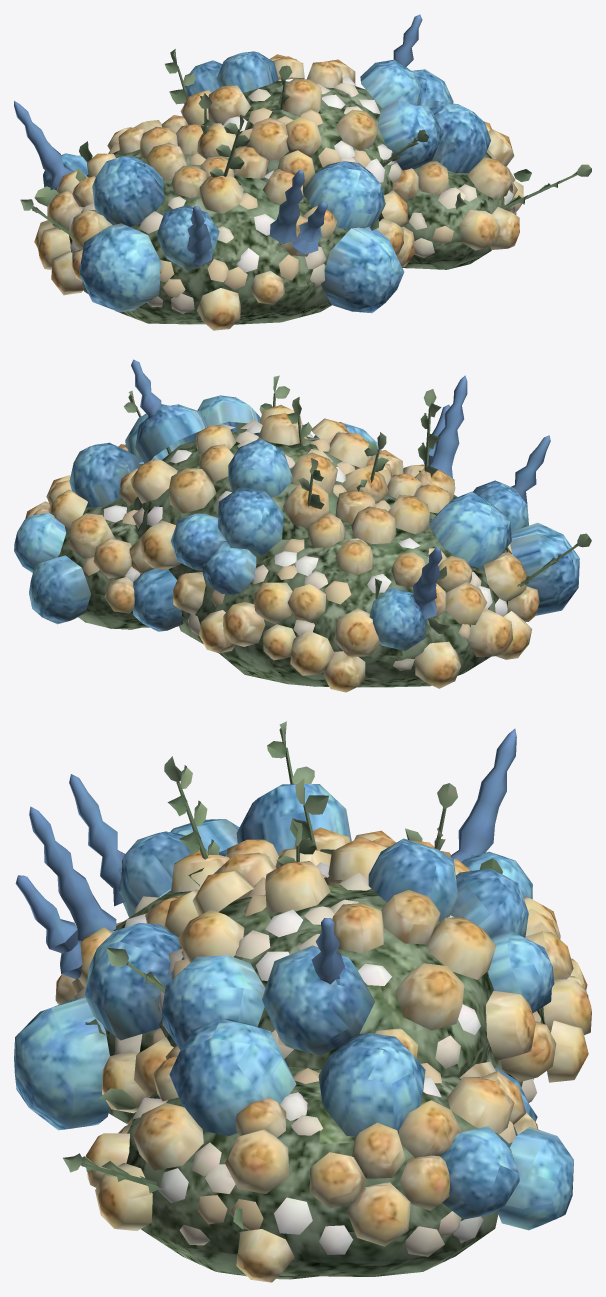
The model's file is cluster_b.glb.
3 renders of one model, top to bottom at view 1: azimuth 30°, elevation 25°; view 2: azimuth 150°, elevation 25°; view 3: azimuth 270°, elevation 25°, orthographic. The views are drawn at different scales.
Parts seen in each view (by area): view 1: cluster_b; view 2: cluster_b; view 3: cluster_b.
Boxes of the visible parts, bbox=[...] form: cluster_b: bbox=[14, 14, 591, 330]; cluster_b: bbox=[14, 359, 591, 692]; cluster_b: bbox=[14, 721, 591, 1282].
Size of the model in its own units: 1.35 by 0.6187 by 0.8688.
1 material, 1 textured.
